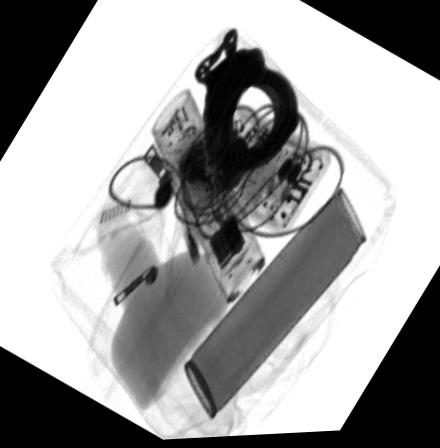Baton: (150, 86, 269, 308)
HandCuffs: (192, 24, 303, 175)
